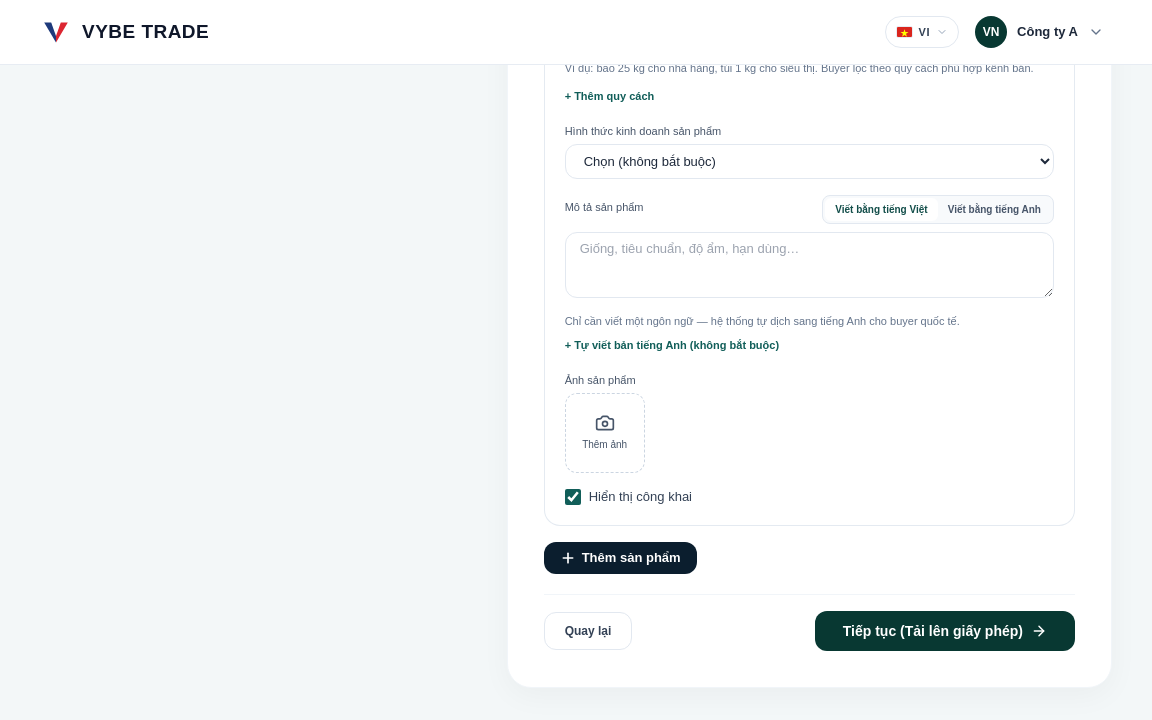
SellerOnboarding bước 2 — sản phẩm (B5) › sản phẩm thiếu mã HS thì không qua được bước 2 và báo tên sản phẩm
(page scrolled)
What coordinates should you click on to do the following:
click the button "Tiếp tục (Tải lên giấy phép)"
I would click on:
 (945, 630)
Its box is [815,610,1075,650].
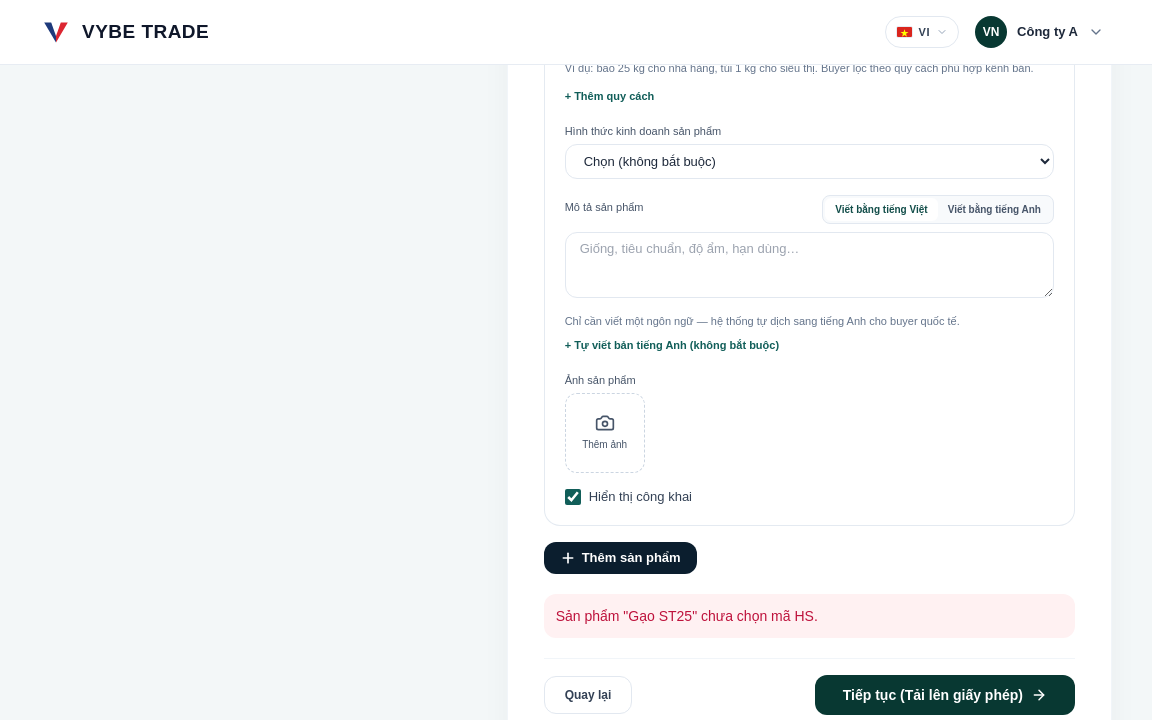
Expected: the message reads "Sản phẩm \"Gạo ST25\" chưa chọn mã HS.", [556,608,818,624]
